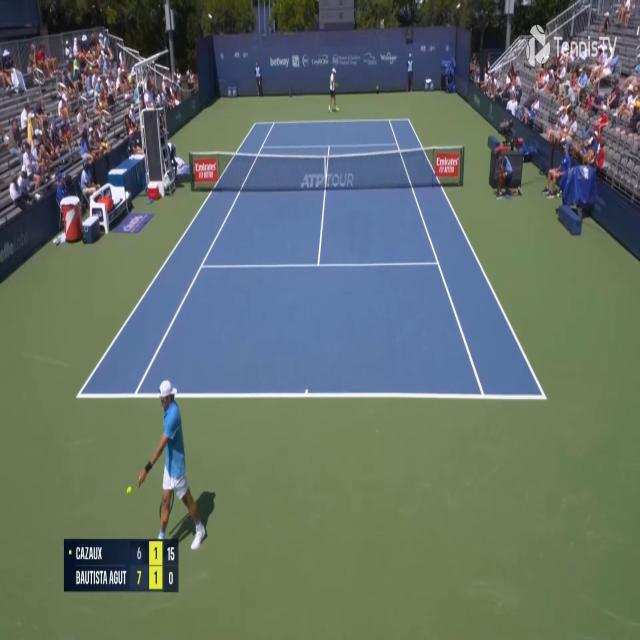tennis-player: (133, 375, 216, 554), (328, 67, 339, 113)
